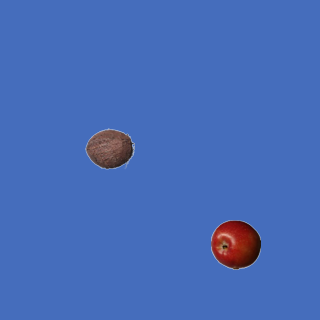Apple Braeburn: (210, 219, 260, 269)
Cocos: (84, 123, 134, 173)
